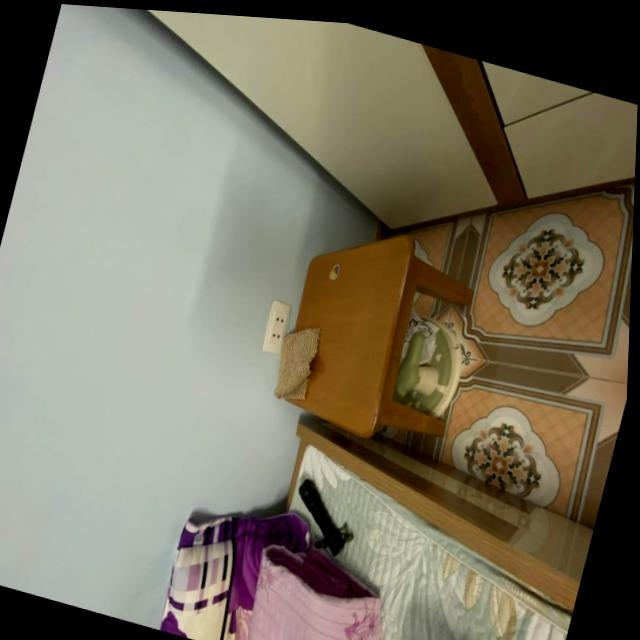outlet: (260, 298, 292, 355)
